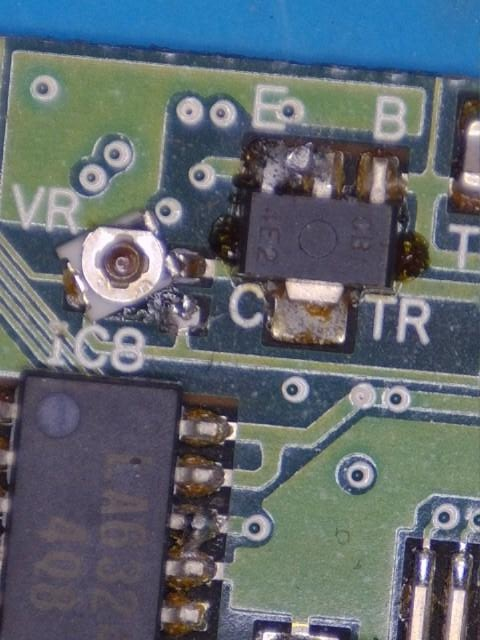pcb_defect: (54, 209, 215, 329), (245, 139, 343, 200), (165, 505, 226, 590)
